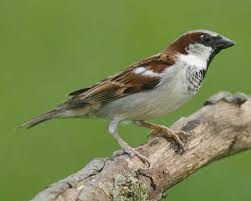hsparrow: (14, 28, 242, 164)
